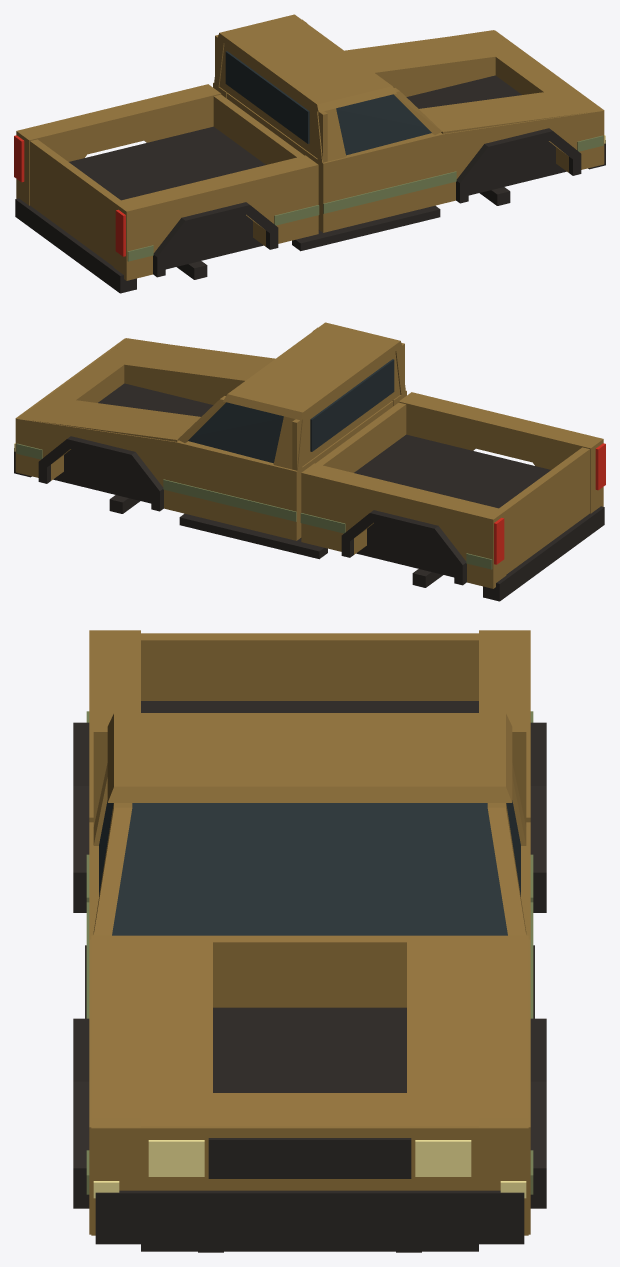
Rendered from base_scout.glb.
The picture shows the model from 3 angles, top to bottom: view 1: azimuth 30°, elevation 25°; view 2: azimuth 150°, elevation 25°; view 3: azimuth 270°, elevation 25°; orthographic projection. The views are drawn at different scales.
Visible parts, largest first — view 1: base_scout; view 2: base_scout; view 3: base_scout.
Part boxes in pixels (x1,y1,x2,y2): base_scout: (14,14,605,293); base_scout: (14,322,605,601); base_scout: (73,630,546,1252).
Size of the model in its own units: 5.2 by 1.56 by 2.2.
